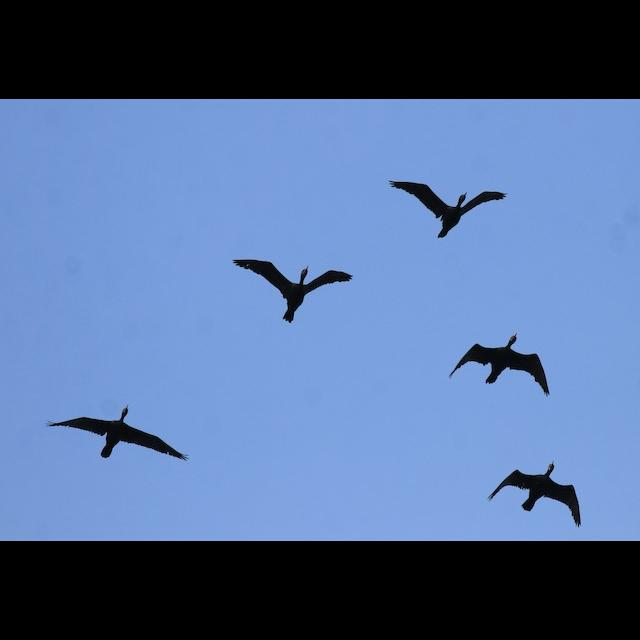cormorant: (46, 405, 190, 475), (233, 256, 349, 326), (449, 328, 551, 402), (388, 176, 507, 238), (489, 462, 587, 526)
